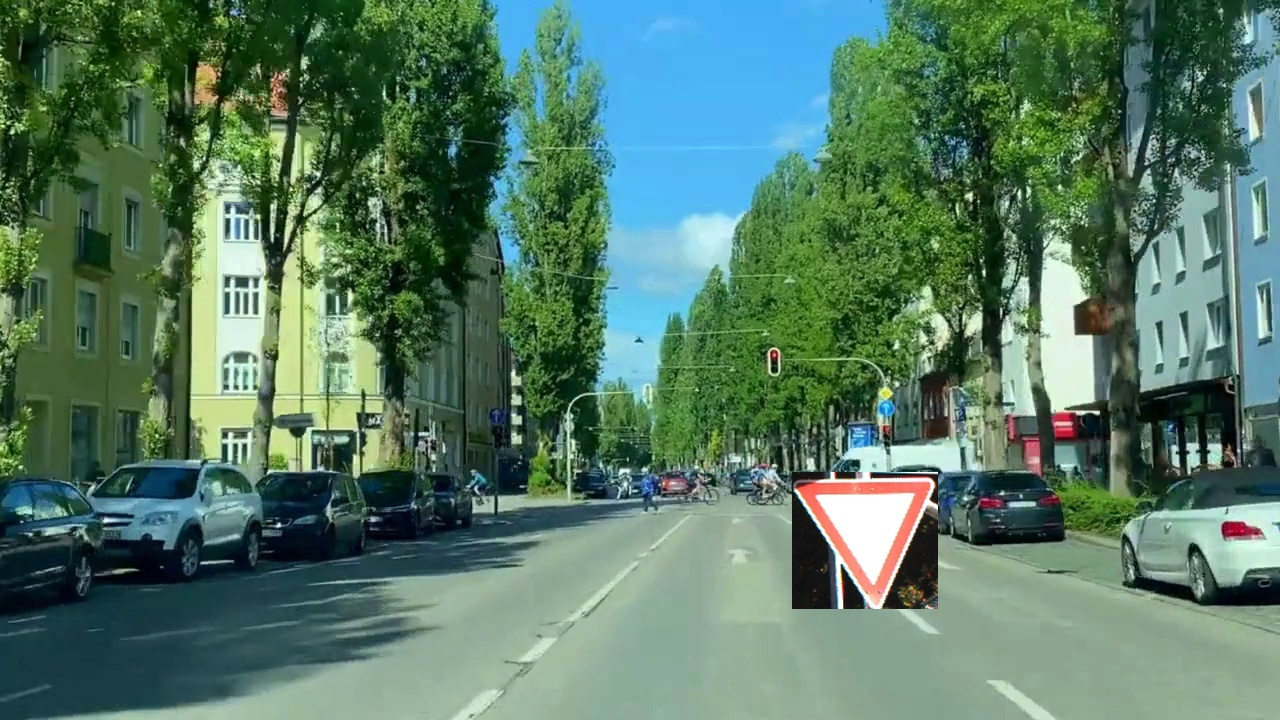Yield: (792, 472, 938, 609)
